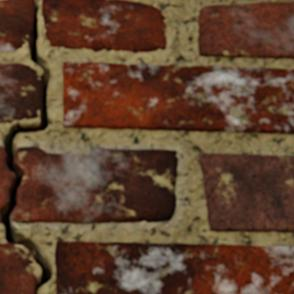brick: (63, 63, 293, 134), (55, 241, 293, 293), (198, 154, 293, 232), (42, 0, 165, 54), (197, 3, 293, 60), (0, 63, 42, 123), (0, 0, 34, 52), (0, 243, 35, 293)
broken_brick: (11, 147, 176, 223), (0, 146, 15, 209)
crack: (0, 0, 53, 293)
